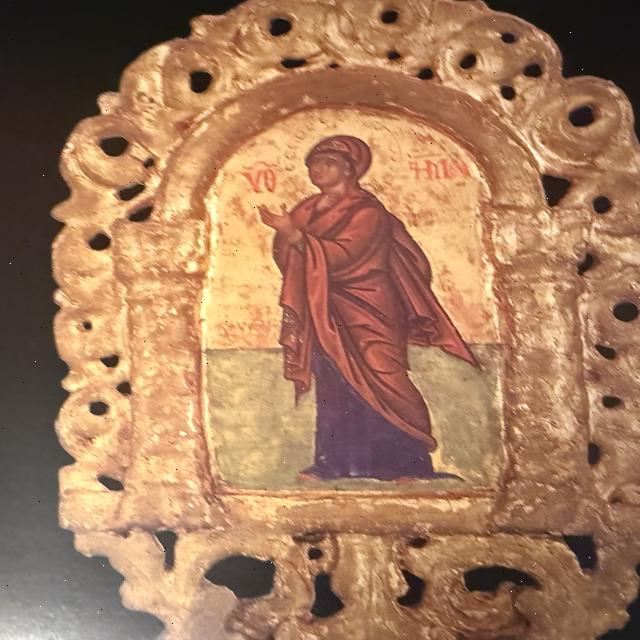aura: (282, 113, 402, 201)
saint: (209, 103, 499, 491)
